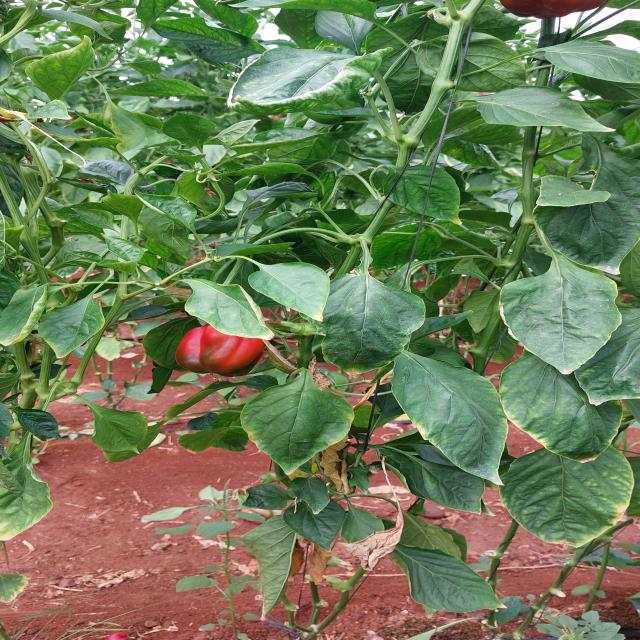Red-Ready-to-Harvest: (172, 320, 278, 376)
